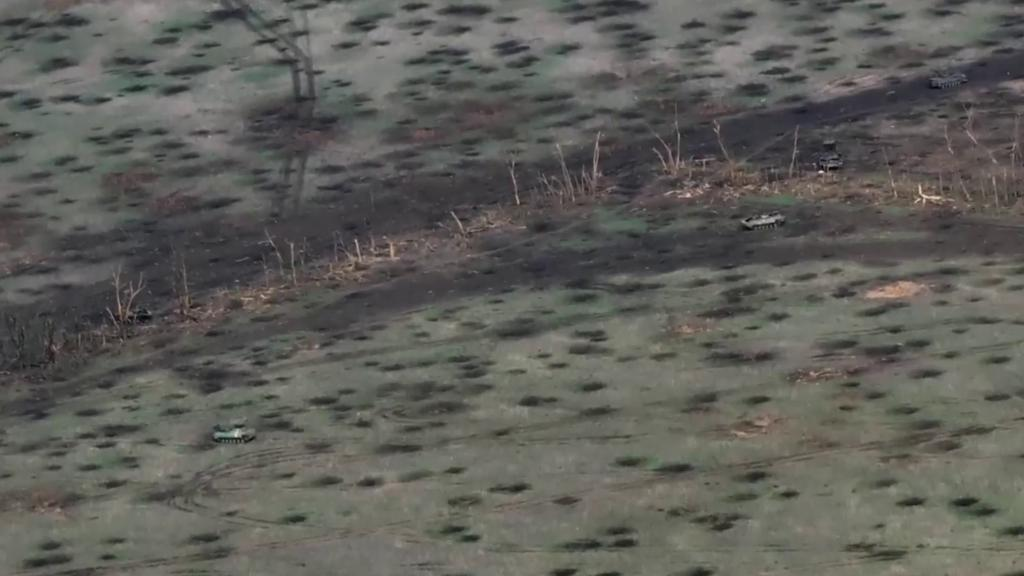APC-IFV: (738, 203, 794, 233), (207, 418, 261, 444), (927, 63, 973, 93), (117, 303, 161, 330)
MLRS: (812, 132, 845, 175)
